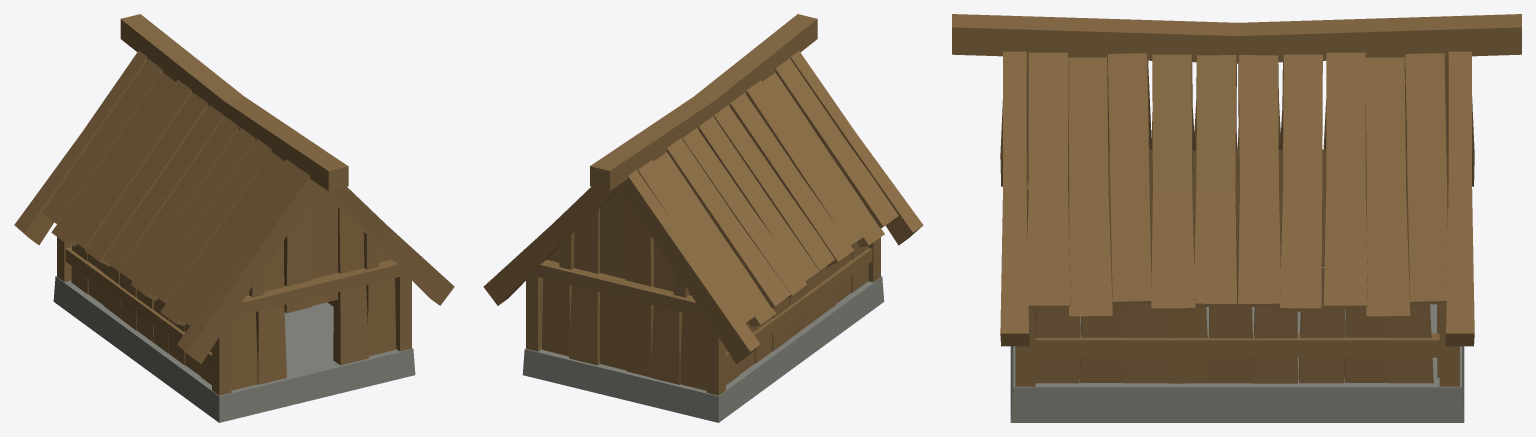
3 views of the same model, side by side, from view 1: azimuth 30°, elevation 25°; view 2: azimuth 150°, elevation 25°; view 3: azimuth 270°, elevation 25° (orthographic). The views are drawn at different scales.
Parts seen in each view (by area): view 1: Houses_FirstAge_1_Level3; view 2: Houses_FirstAge_1_Level3; view 3: Houses_FirstAge_1_Level3.
Part boxes in pixels (<box>): Houses_FirstAge_1_Level3: <box>14,14,454,422</box>; Houses_FirstAge_1_Level3: <box>483,14,923,422</box>; Houses_FirstAge_1_Level3: <box>952,14,1521,422</box>.
Bounding box in the file's own units: 0.8693 × 0.7645 × 1.17.
